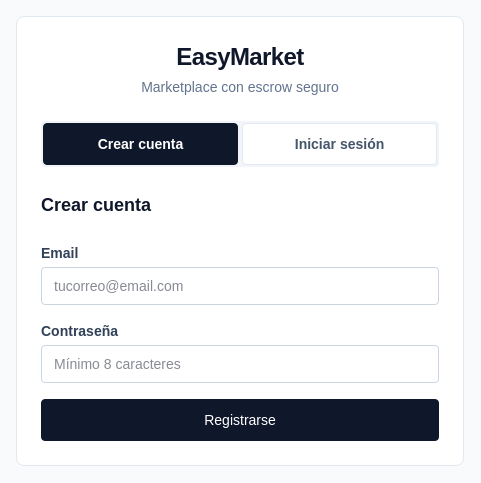
Test: AuthPage (PHA01TSK10) › renderiza el modo registro por defecto y permite cambiar a login
Expected: the heading "Crear cuenta" is shown, [41,195,151,215]
Expected: the button "Registrarse" is shown, [41,399,439,441]
Click the tab "Iniciar sesión": (340, 144) [242,123,437,165]
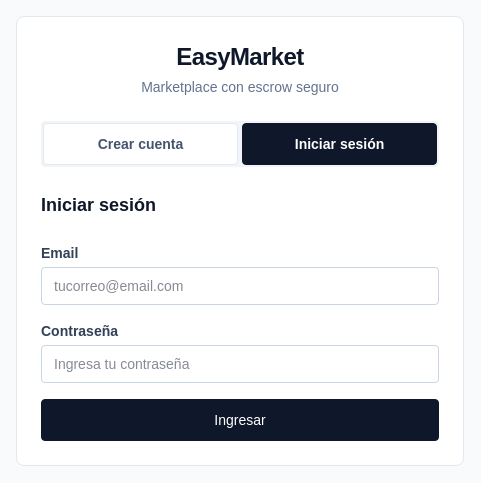
Result: the heading "Iniciar sesión" is shown at [41,195,156,215]
Result: the button "Ingresar" is shown at [41,399,439,441]
